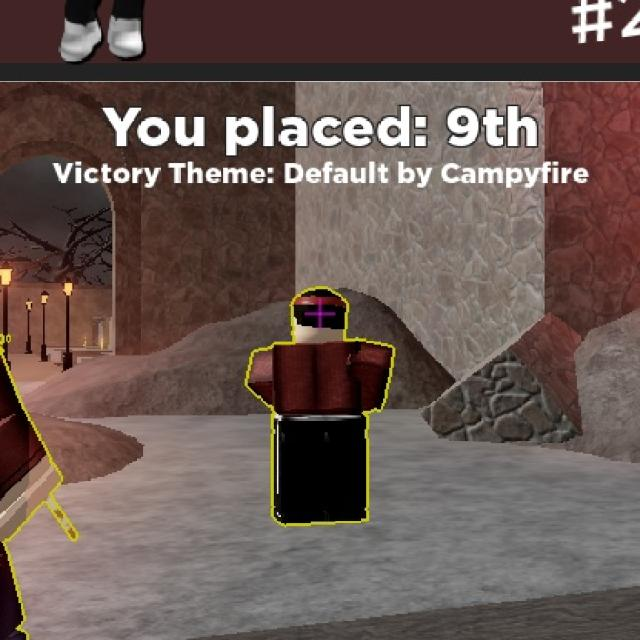player: (275, 275, 372, 530)
